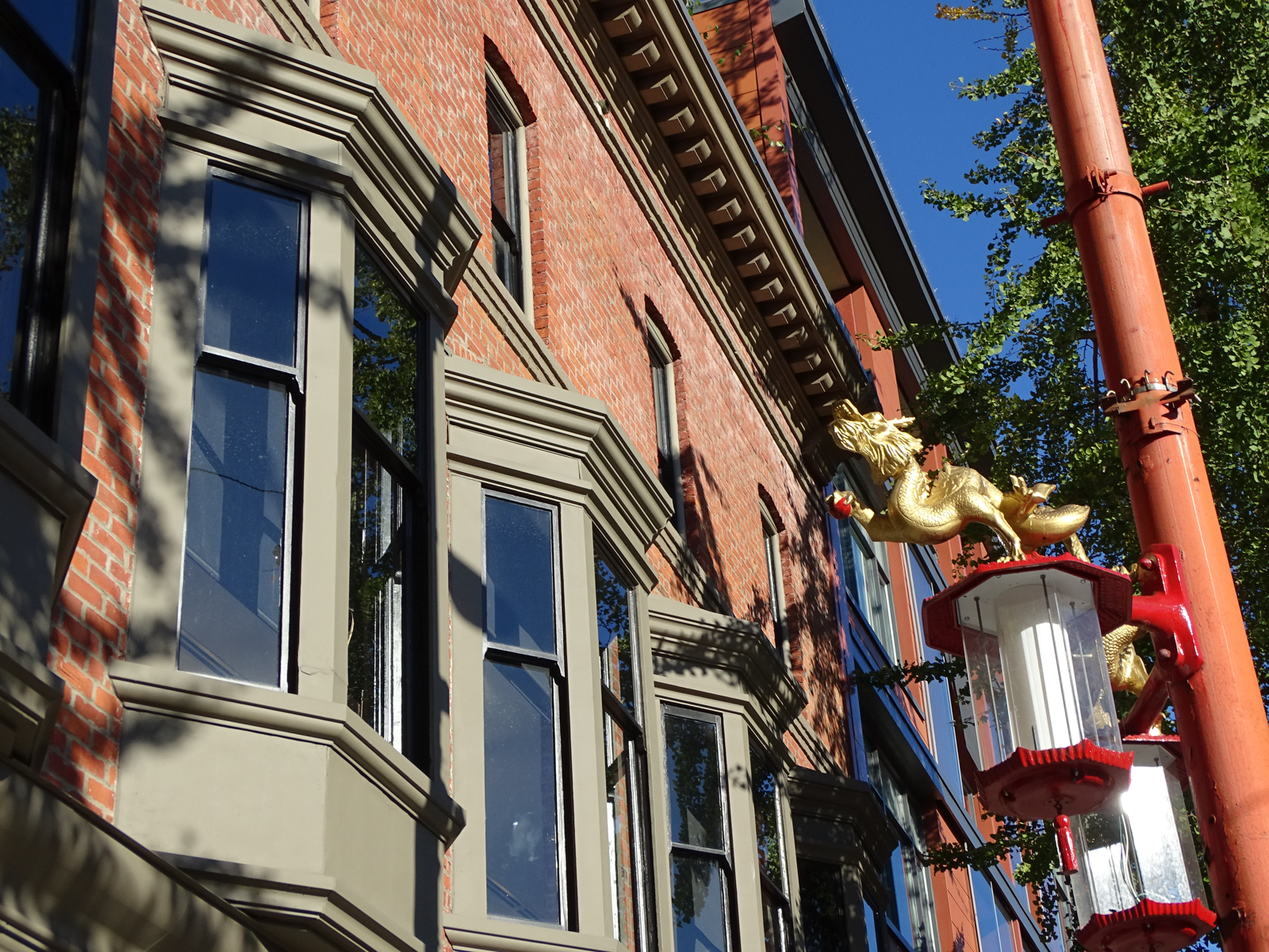fachada: (0, 5, 1084, 944)
poste: (933, 0, 1269, 952)
